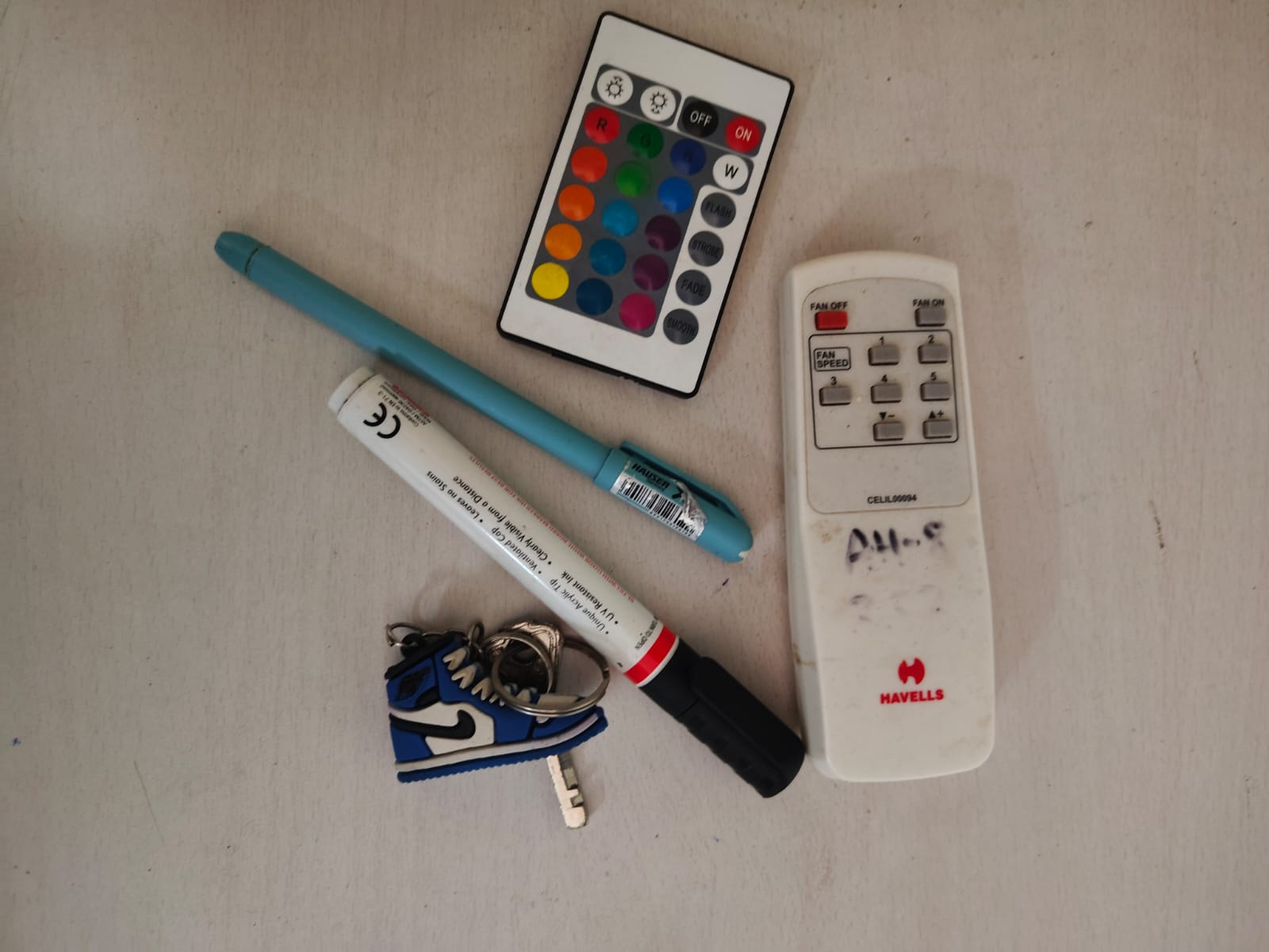case: (318, 348, 819, 808)
pen: (203, 207, 815, 585)
